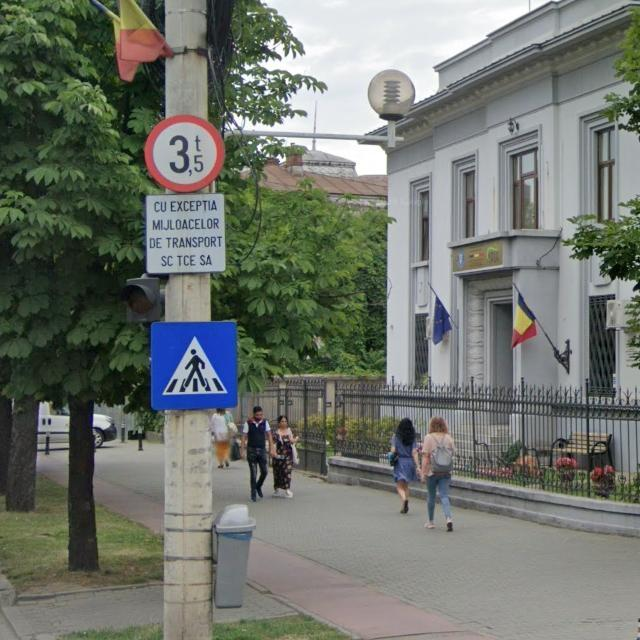info_crosswalk: (149, 319, 238, 410)
